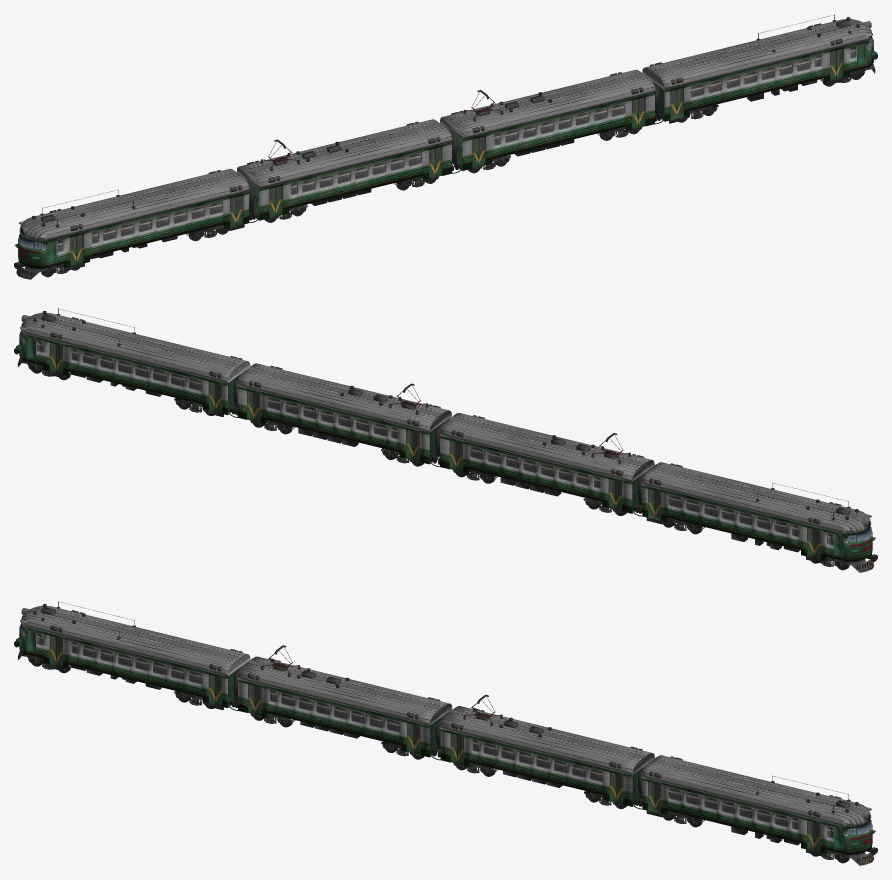
File: er2_exterior.glb
The picture shows the model from 3 angles, top to bottom: view 1: azimuth 30°, elevation 25°; view 2: azimuth 150°, elevation 25°; view 3: azimuth 330°, elevation 25°; orthographic projection.
Visible parts, largest first — view 1: Object_2; view 2: Object_2; view 3: Object_2.
Part boxes in pixels (box(x1,y1,x2,y2)): Object_2: box(14, 14, 877, 279); Object_2: box(14, 308, 877, 572); Object_2: box(14, 601, 877, 865).
Bounding box in the file's own units: 4148 × 330 × 193.
1 material, 1 textured.
